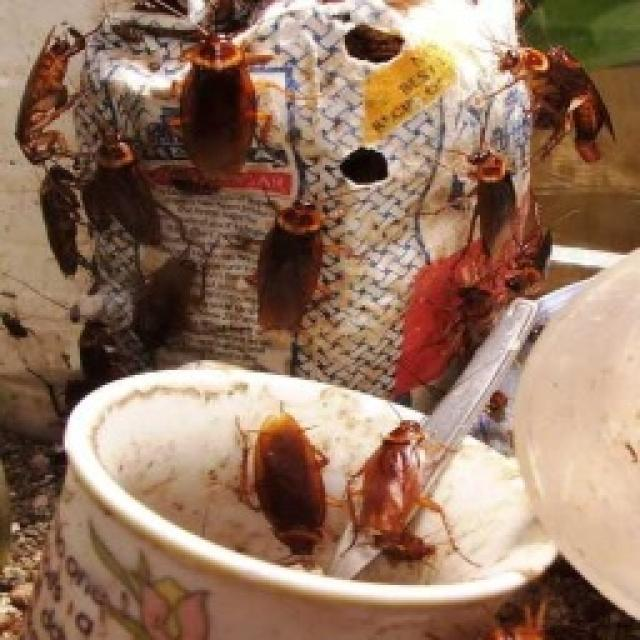cockroach: (170, 22, 291, 195), (228, 389, 344, 567), (490, 28, 621, 157), (442, 113, 540, 284), (342, 405, 451, 553), (243, 180, 336, 353), (124, 233, 235, 359), (89, 120, 175, 252), (16, 9, 84, 166), (24, 158, 101, 295)
